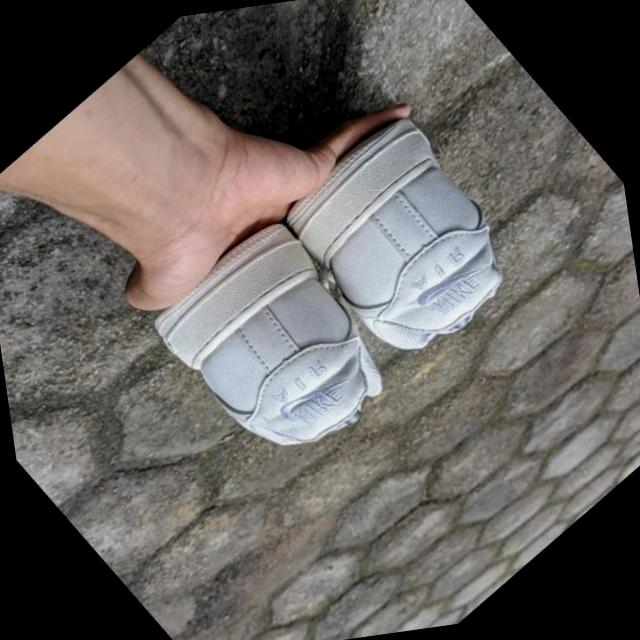nike_fake_airforce: (260, 92, 552, 393), (132, 194, 422, 494)
